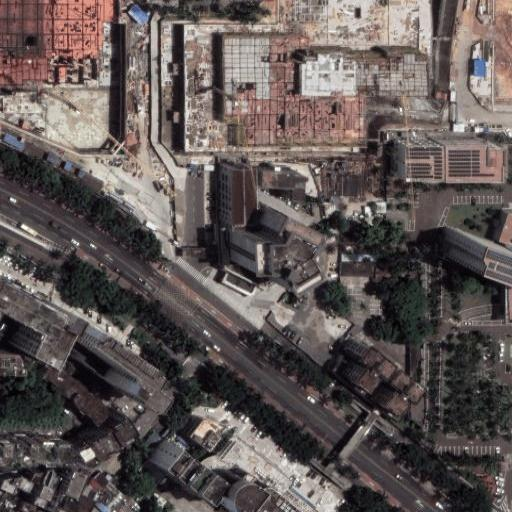building: (219, 34, 429, 148), (200, 434, 315, 512), (69, 319, 147, 402), (225, 207, 298, 283), (169, 21, 204, 158), (391, 138, 503, 176), (43, 368, 112, 429), (147, 437, 211, 494), (441, 227, 512, 276), (0, 52, 101, 85), (362, 359, 408, 409), (62, 332, 112, 377), (230, 478, 290, 512), (313, 156, 362, 197), (336, 336, 378, 381), (219, 159, 246, 219), (256, 164, 304, 197), (208, 472, 248, 506), (212, 265, 253, 296), (490, 270, 512, 320), (181, 418, 216, 448), (484, 209, 512, 246), (86, 427, 117, 459), (0, 431, 42, 452), (136, 458, 164, 485), (107, 415, 135, 442), (125, 2, 151, 27), (0, 477, 35, 495), (66, 471, 87, 500), (139, 430, 162, 456), (339, 262, 374, 276), (88, 471, 110, 493), (74, 441, 94, 463), (54, 493, 76, 512), (341, 252, 382, 262), (43, 469, 62, 490), (4, 135, 28, 150), (107, 492, 125, 511), (80, 486, 98, 502), (38, 485, 54, 501), (74, 499, 93, 512), (94, 499, 112, 512), (474, 59, 486, 78), (176, 433, 191, 448), (31, 471, 45, 486), (18, 501, 36, 512), (35, 497, 50, 509), (46, 153, 59, 165), (63, 159, 71, 172), (454, 125, 464, 132), (77, 169, 84, 178), (105, 474, 112, 481)
